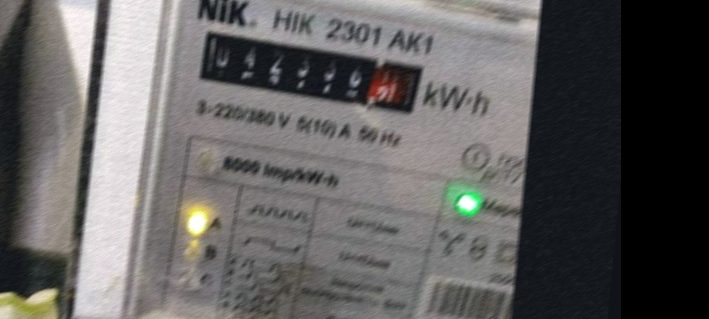0: (214, 42, 230, 72)
2: (266, 49, 287, 77)
3: (293, 51, 311, 82), (322, 55, 338, 84)
4: (240, 45, 259, 74)
6: (346, 64, 364, 92)
screen: (186, 23, 433, 126)
